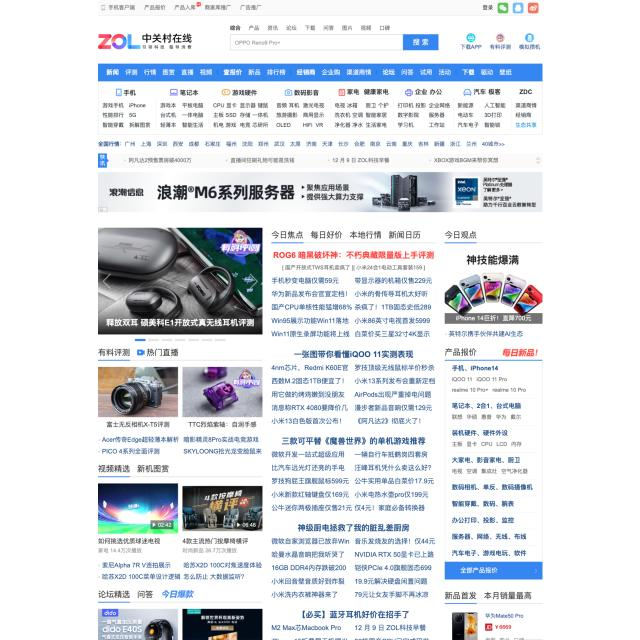input: (230, 34, 439, 50)
logo: (97, 27, 196, 56)
navigation: (98, 63, 542, 81), (98, 136, 507, 148), (97, 1, 265, 14), (212, 100, 270, 130), (228, 22, 390, 32), (334, 102, 390, 130), (397, 102, 453, 129), (101, 101, 151, 129), (276, 101, 326, 129), (457, 102, 506, 130), (159, 101, 205, 129)
